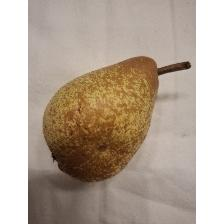Birne: (41, 55, 191, 184)
